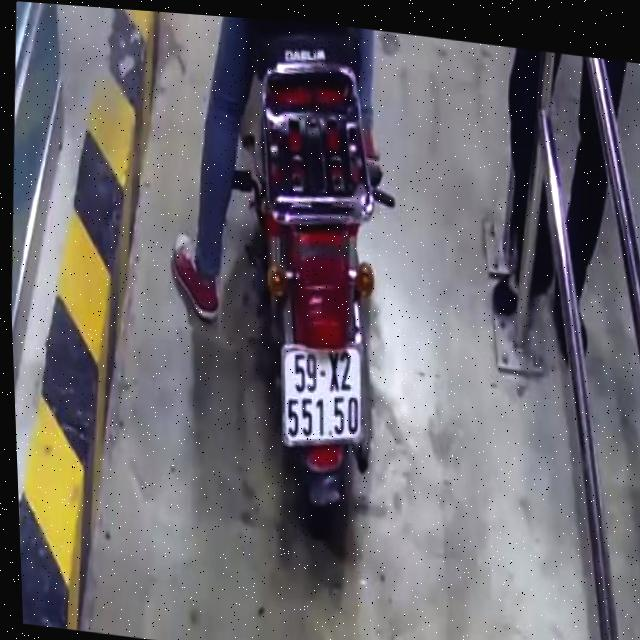motorcycle: (212, 30, 428, 570)
plate: (273, 336, 382, 455)
